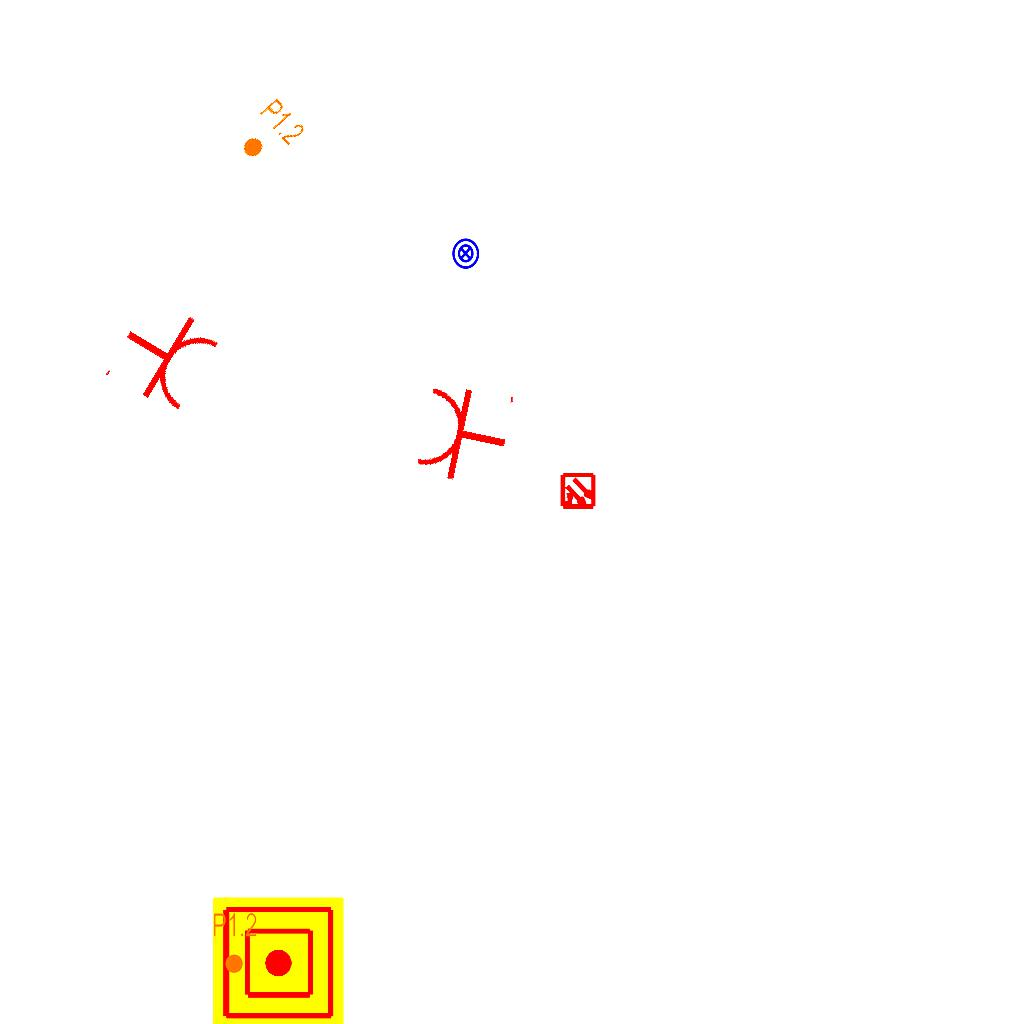Downlight_LED_Einbauleuchten_Flur: (229, 95, 309, 173), (212, 911, 258, 975)
NAM-Nichtautomatischer_Melder: (212, 897, 344, 1024)
OT_Multisensormelder_(Kombination_RMO_WMD): (550, 464, 606, 520)
Schukosteckdose_einfach: (100, 291, 227, 423), (411, 375, 518, 491)
Taster_beleuchtet: (449, 237, 482, 270)
